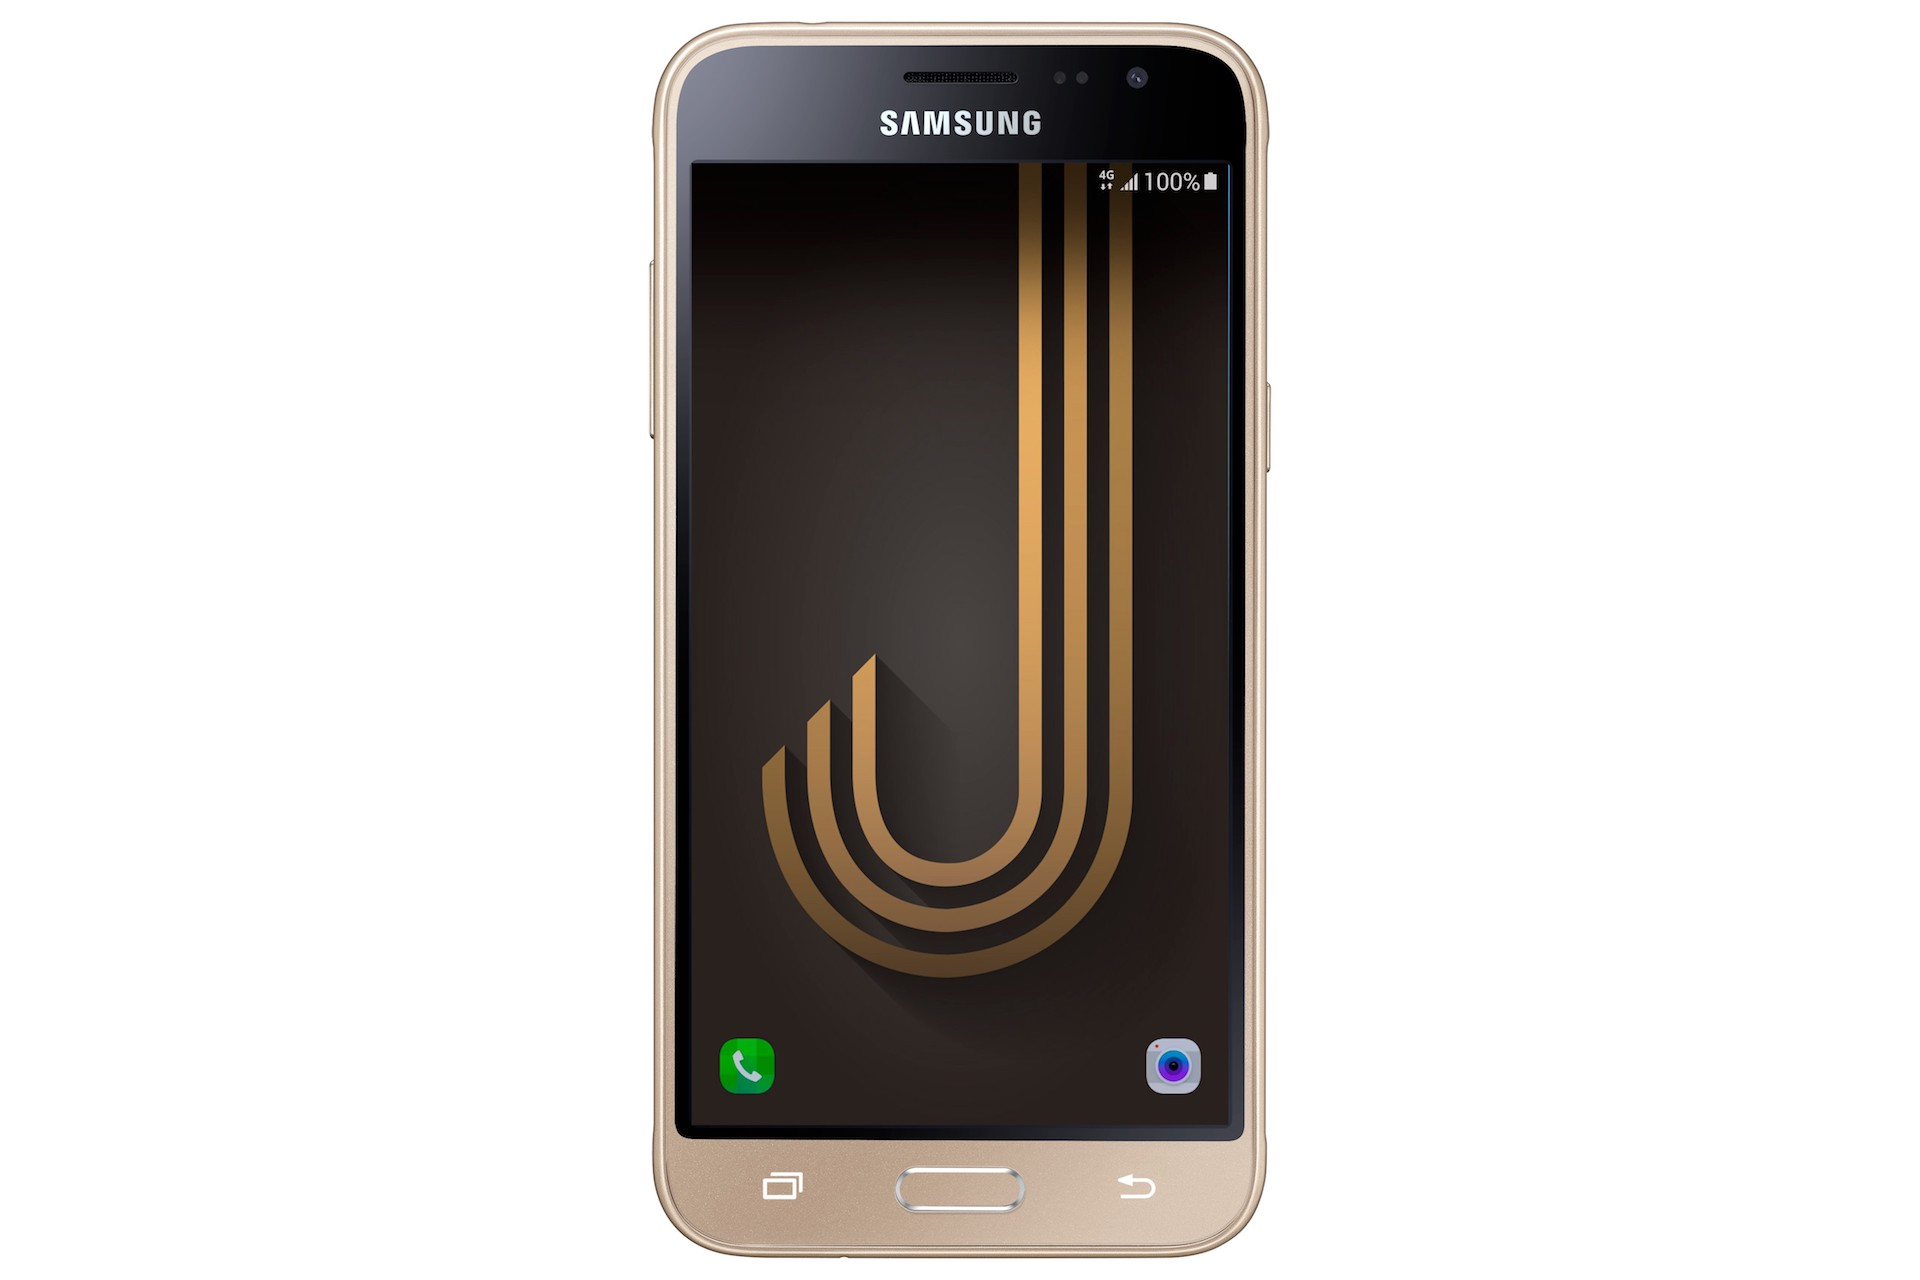smartphone: (644, 16, 1276, 1264)
